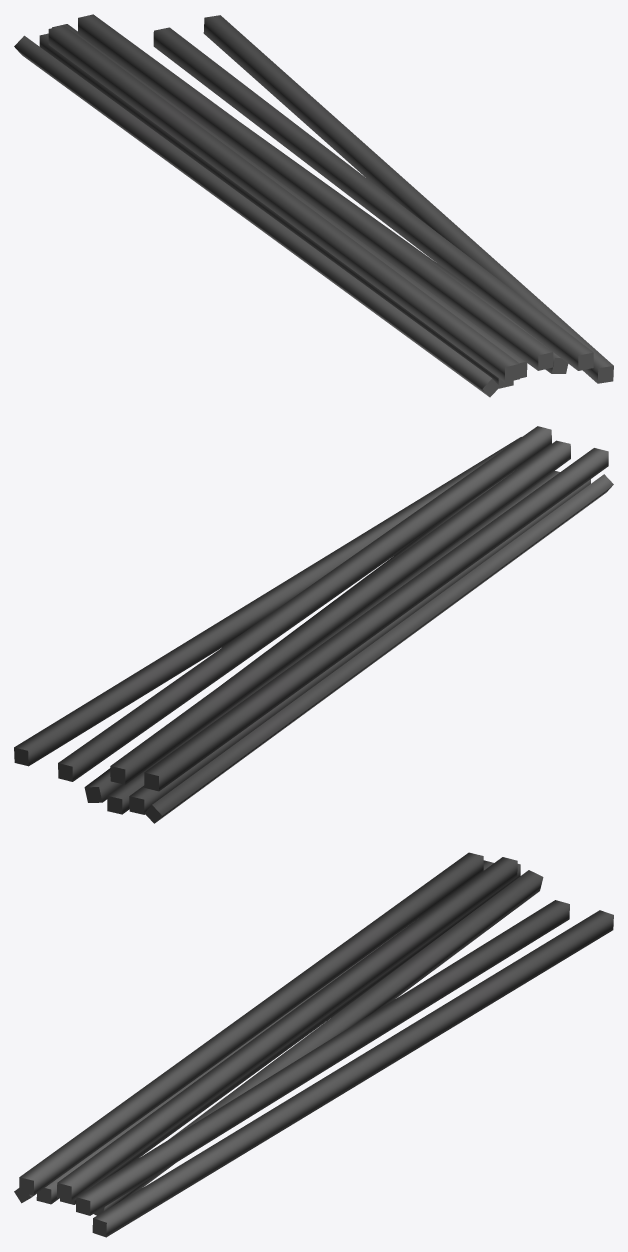
The model's file is BarsStack_3.fbx.
3 renders of one model, top to bottom at view 1: azimuth 30°, elevation 25°; view 2: azimuth 150°, elevation 25°; view 3: azimuth 330°, elevation 25°, orthographic. The views are drawn at different scales.
Parts seen in each view (by area): view 1: BarsStack_3; view 2: BarsStack_3; view 3: BarsStack_3.
Part boxes in pixels (x1=…): BarsStack_3: x1=14, y1=14, x2=613, y2=397; BarsStack_3: x1=14, y1=426, x2=613, y2=823; BarsStack_3: x1=14, y1=852, x2=613, y2=1237.
Size of the model in its own units: 146 by 28.59 by 684.
